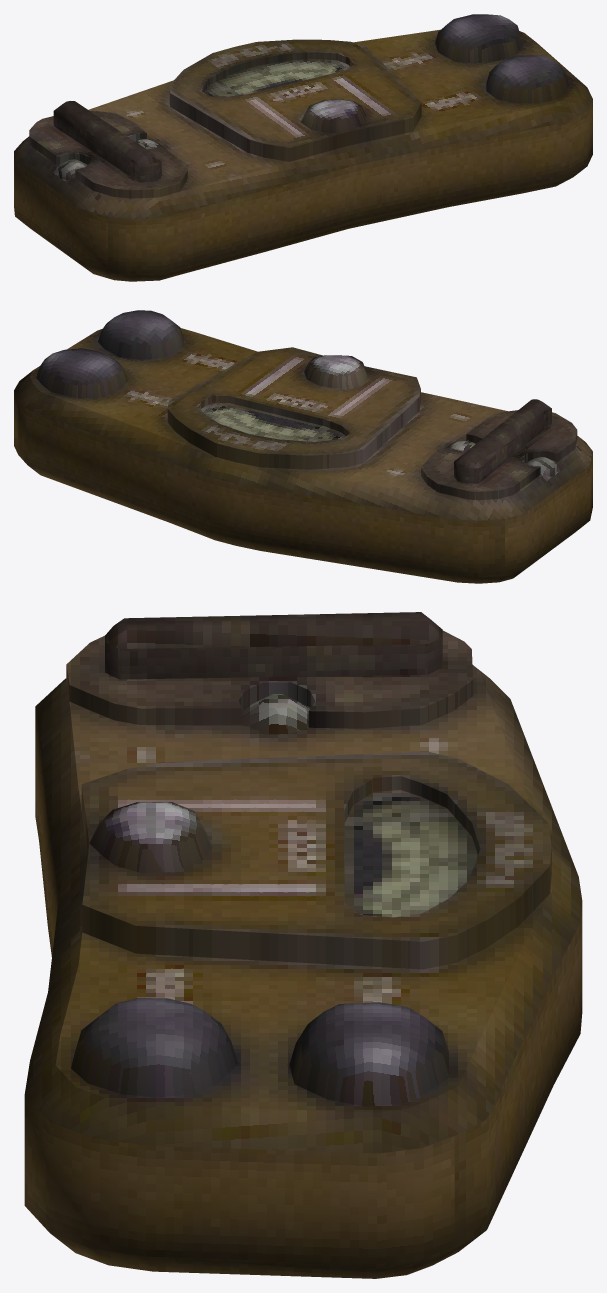
File: dosimeter_2.glb
The picture shows the model from 3 angles, top to bottom: view 1: azimuth 30°, elevation 25°; view 2: azimuth 150°, elevation 25°; view 3: azimuth 270°, elevation 25°; orthographic projection. The views are drawn at different scales.
Parts seen in each view (by area): view 1: dosimeter_2; view 2: dosimeter_2; view 3: dosimeter_2.
Part boxes in pixels (x1,y1,x2,y2): dosimeter_2: (14, 14, 592, 281); dosimeter_2: (14, 310, 592, 583); dosimeter_2: (24, 612, 582, 1278).
Bounding box in the file's own units: 0.3097 × 0.0656 × 0.1459.
1 material, 1 textured.
